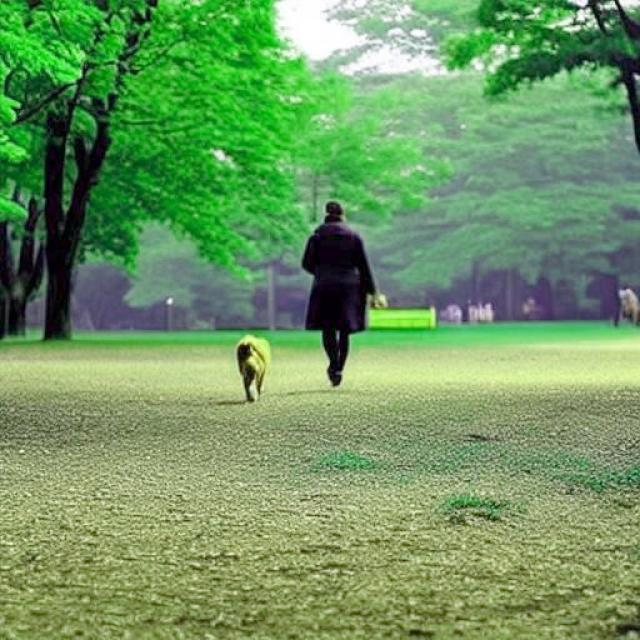Unleashed_Dog: (236, 329, 349, 399)
